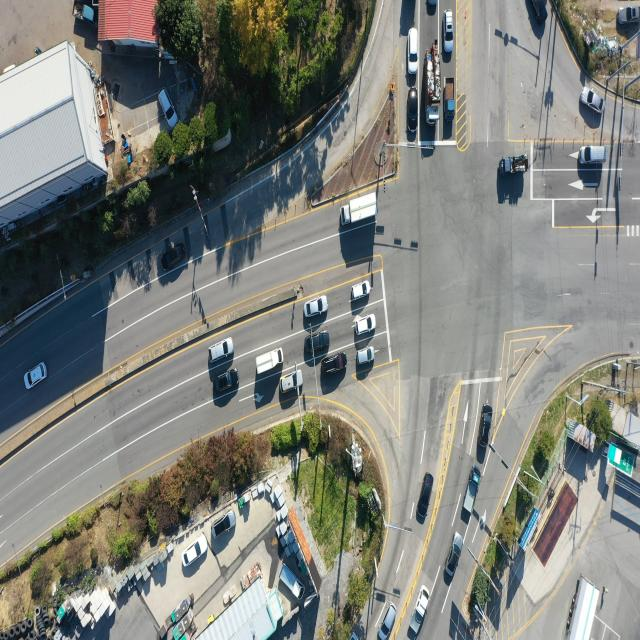car: (416, 470, 434, 523), (443, 534, 462, 579), (186, 533, 208, 570), (160, 87, 178, 128), (212, 510, 236, 540), (376, 604, 396, 640), (164, 243, 188, 271), (213, 369, 239, 394), (209, 337, 234, 363), (24, 361, 46, 390), (581, 88, 604, 115), (280, 369, 304, 394), (480, 406, 494, 448), (581, 144, 608, 165), (324, 354, 349, 376), (306, 332, 331, 354), (304, 295, 328, 317), (408, 86, 419, 134), (526, 0, 548, 24), (409, 27, 420, 74), (617, 5, 640, 25), (354, 315, 376, 335), (350, 281, 370, 301), (355, 346, 375, 366), (446, 12, 454, 54)
medium_truck: (564, 579, 601, 640), (342, 192, 378, 228), (426, 54, 440, 126)
small_truck: (274, 566, 306, 604), (407, 584, 429, 634), (462, 464, 481, 516), (255, 347, 284, 377), (500, 151, 530, 177), (73, 1, 97, 26), (445, 76, 456, 120)
